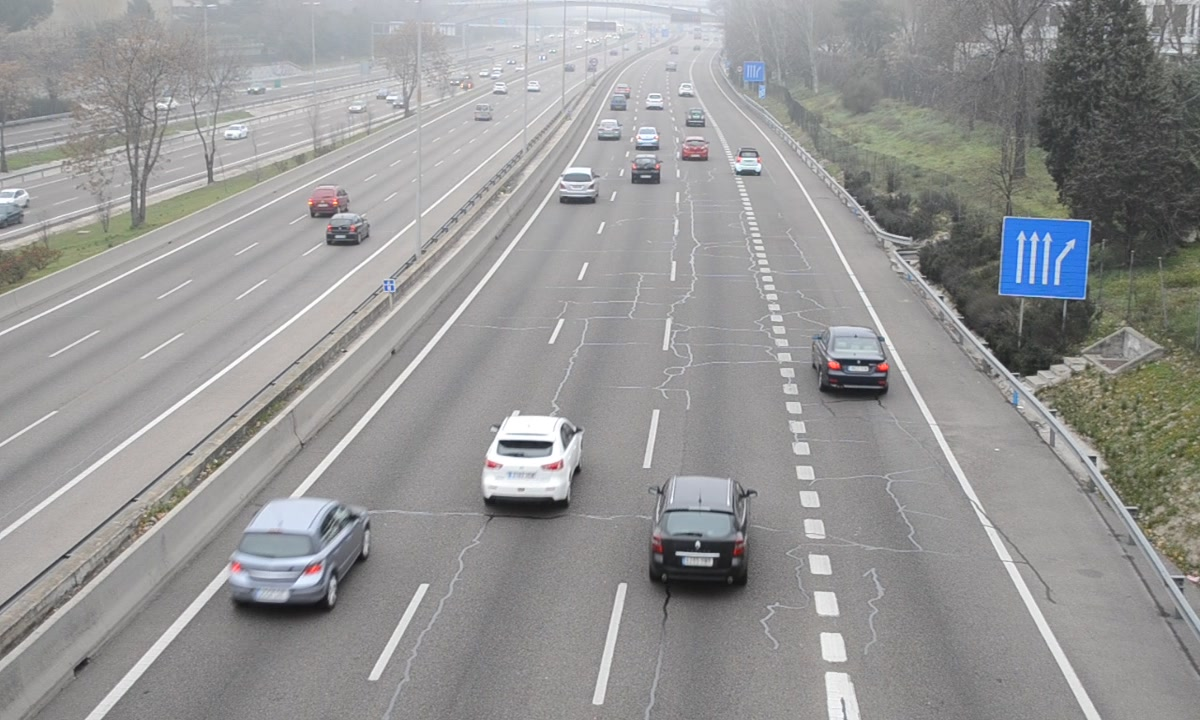car: (228, 499, 368, 609), (648, 476, 751, 589), (481, 417, 584, 505), (813, 326, 893, 399), (558, 168, 600, 204), (631, 153, 662, 185), (734, 146, 763, 176), (682, 137, 710, 162), (596, 118, 623, 143), (635, 126, 660, 152)
